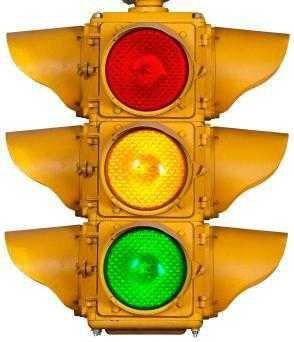5: (100, 22, 196, 118)
9: (97, 123, 191, 215)
red traffic light: (102, 220, 191, 317)
